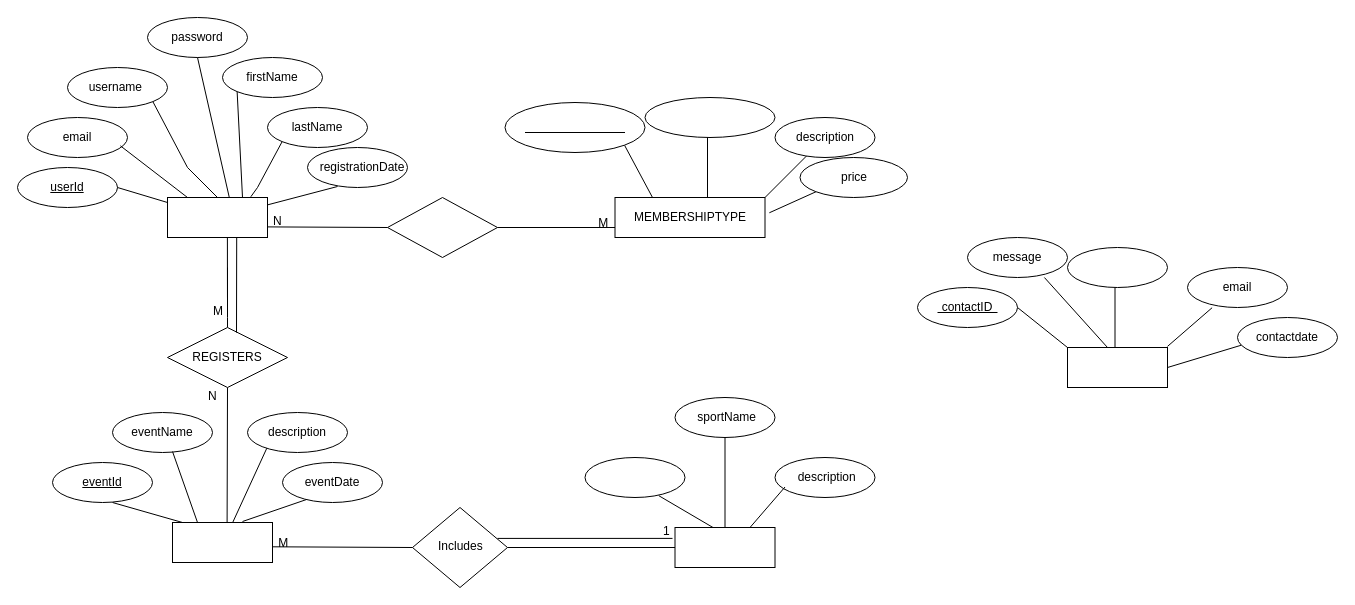
This 1355x605 diagram has some shape labels left out. Here are the shapes that lost their labels. From the top down, the box of each, then its label:
(504, 102, 645, 152): membershipTypeID
(644, 96, 775, 138): membershipName
(166, 196, 268, 238): USER
(386, 196, 498, 258): HAS
(1066, 246, 1168, 288): name
(1066, 346, 1168, 388): CONTACT
(584, 456, 685, 498): sportId
(172, 522, 272, 562): EVENT
(674, 526, 775, 568): SPORT
